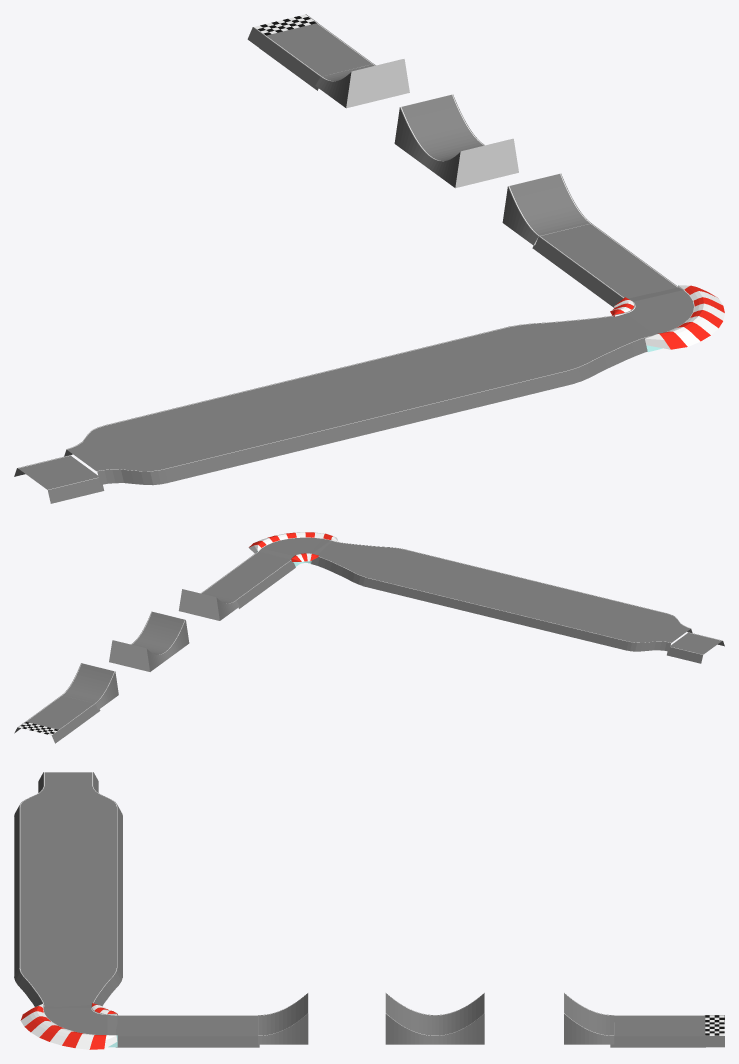
Rendered from track3.fbx.
The picture shows the model from 3 angles, top to bottom: view 1: azimuth 30°, elevation 25°; view 2: azimuth 150°, elevation 25°; view 3: azimuth 270°, elevation 25°; orthographic projection. The views are drawn at different scales.
Visible parts, largest first — view 1: WideToNormalLong.001, CurvgyStreetCurbs.013, StraightStreetWide.005, StraightJump.006, StraightStreetWide.007, StraightStreetWide.004, StraightStreetWide.008, StraightJump.004, StraightStreetWide.006, StraightStreetWide.002, StraightStreetWide.003, StraightStreetWide.001 (+10 smaller); view 2: WideToNormalLong.001, CurvgyStreetCurbs.013, StraightStreetWide.003, StraightJump.003, StraightStreetWide.006, StraightStreetWide.008, StraightStreetWide.005, StraightJump.005, StraightStreetWide.007, StraightStreetWide.004, StraightStreetWide.001, StraightStreetWide.002 (+10 smaller); view 3: WideToNormalLong.001, CurvgyStreetCurbs.013, StraightStreetWide.003, StraightStreetWide.007, StraightStreetWide.008, StraightStreetWide.005, StraightStreetWide.002, StraightStreetWide.006, StraightStreetWide.001, StraightStreetWide.004, StraightJump.006, StraightJump.005 (+10 smaller).
Boxes of the visible parts, left/top/right/bottom form: WideToNormalLong.001: left=508, top=315, right=649, bottom=384; CurvgyStreetCurbs.013: left=610, top=285, right=724, bottom=352; StraightStreetWide.005: left=257, top=375, right=371, bottom=445; StraightJump.006: left=502, top=173, right=591, bottom=245; StraightStreetWide.007: left=155, top=400, right=270, bottom=470; StraightStreetWide.004: left=309, top=363, right=425, bottom=432; StraightStreetWide.008: left=103, top=413, right=219, bottom=482; StraightJump.004: left=394, top=94, right=482, bottom=165; StraightStreetWide.006: left=205, top=388, right=320, bottom=458; StraightStreetWide.002: left=410, top=339, right=525, bottom=408; StraightStreetWide.003: left=359, top=350, right=474, bottom=420; StraightStreetWide.001: left=458, top=326, right=574, bottom=396; WideToNormalLong.001: left=311, top=541, right=405, bottom=585; CurvgyStreetCurbs.013: left=248, top=532, right=338, bottom=566; StraightStreetWide.003: left=427, top=565, right=501, bottom=609; StraightJump.003: left=61, top=663, right=118, bottom=709; StraightStreetWide.006: left=526, top=589, right=601, bottom=634; StraightStreetWide.008: left=592, top=605, right=666, bottom=650; StraightStreetWide.005: left=493, top=581, right=567, bottom=626; StraightJump.005: left=132, top=611, right=189, bottom=657; StraightStreetWide.007: left=560, top=597, right=633, bottom=641; StraightStreetWide.004: left=461, top=573, right=533, bottom=617; StraightStreetWide.001: left=363, top=549, right=437, bottom=594; StraightStreetWide.002: left=395, top=557, right=469, bottom=601; WideToNormalLong.001: left=14, top=968, right=122, bottom=1006; CurvgyStreetCurbs.013: left=20, top=1003, right=117, bottom=1049; StraightStreetWide.003: left=14, top=908, right=122, bottom=937; StraightStreetWide.007: left=14, top=827, right=122, bottom=855; StraightStreetWide.008: left=14, top=806, right=122, bottom=835; StraightStreetWide.005: left=14, top=868, right=122, bottom=896; StraightStreetWide.002: left=14, top=928, right=122, bottom=957; StraightStreetWide.006: left=14, top=847, right=122, bottom=876; StraightStreetWide.001: left=14, top=948, right=122, bottom=977; StraightStreetWide.004: left=14, top=888, right=122, bottom=917; StraightJump.006: left=258, top=993, right=308, bottom=1044; StraightJump.005: left=385, top=993, right=435, bottom=1044.
Size of the model in its own units: 13143 by 806 by 14175.
